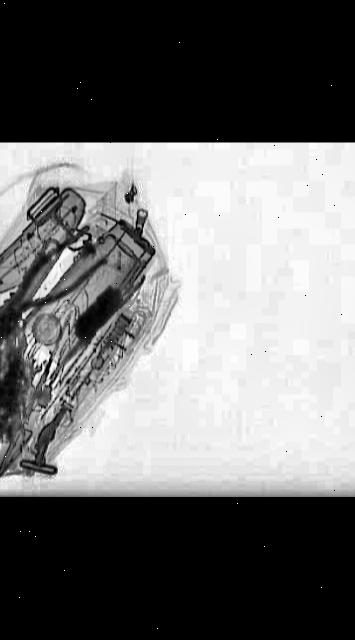Pliers: (0, 223, 132, 345)
